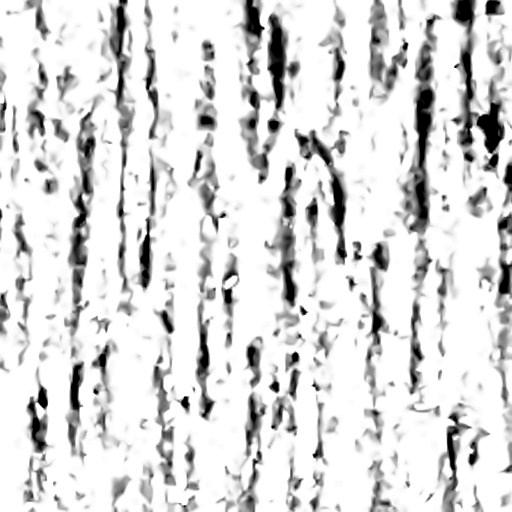egg: (477, 114, 498, 145)
